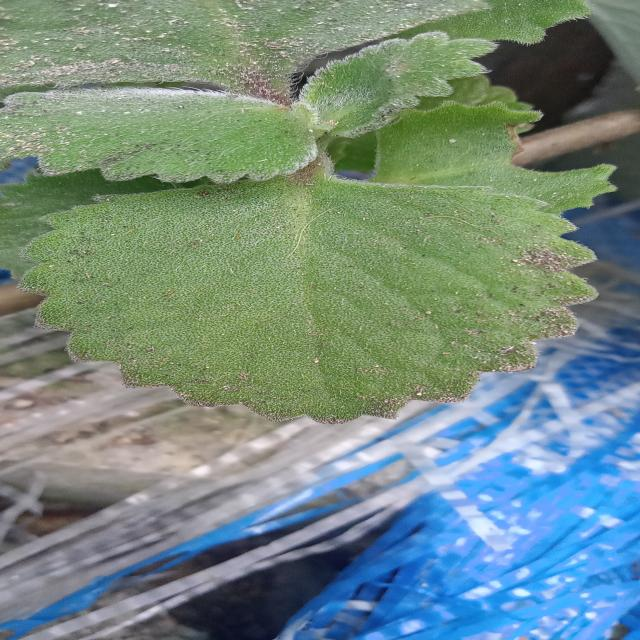Oregano: (15, 168, 609, 428)
